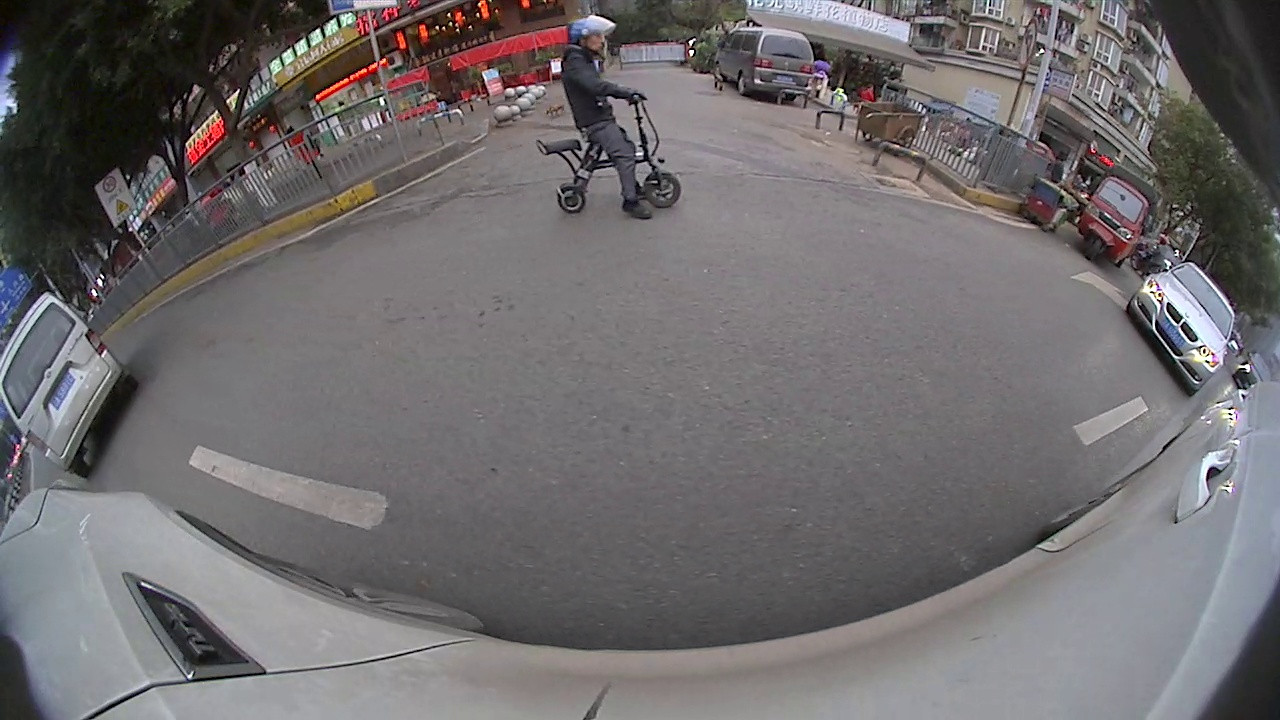car: (0, 292, 143, 484), (1123, 254, 1245, 401), (707, 23, 819, 100)
front: (641, 171, 687, 209)
rear: (553, 183, 590, 214)
rider: (536, 11, 684, 224), (1075, 159, 1161, 272)
